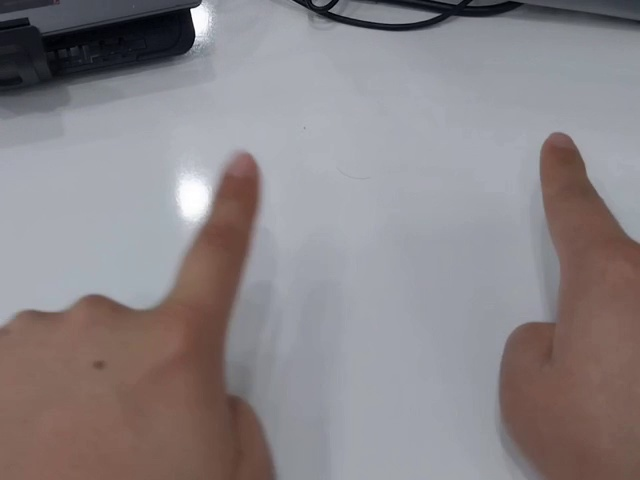fingers: (213, 151, 260, 208), (538, 130, 589, 181)
